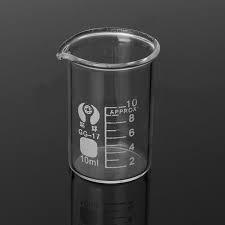Beaker: (42, 30, 163, 184)
